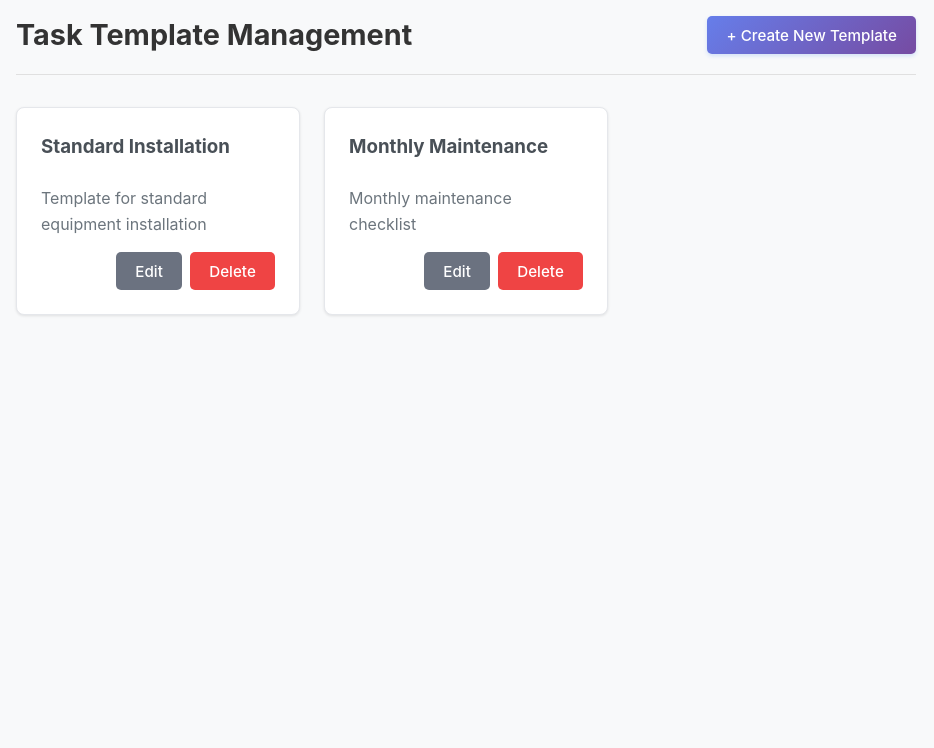
Test case: TaskAdministration Component - REQ-202.3 › Template Management › handles template editing
Expected: the heading "Standard Installation" is shown, [41,135,230,158]
Click the button "Edit" below "Standard Installation": (149, 271) [116,252,182,290]
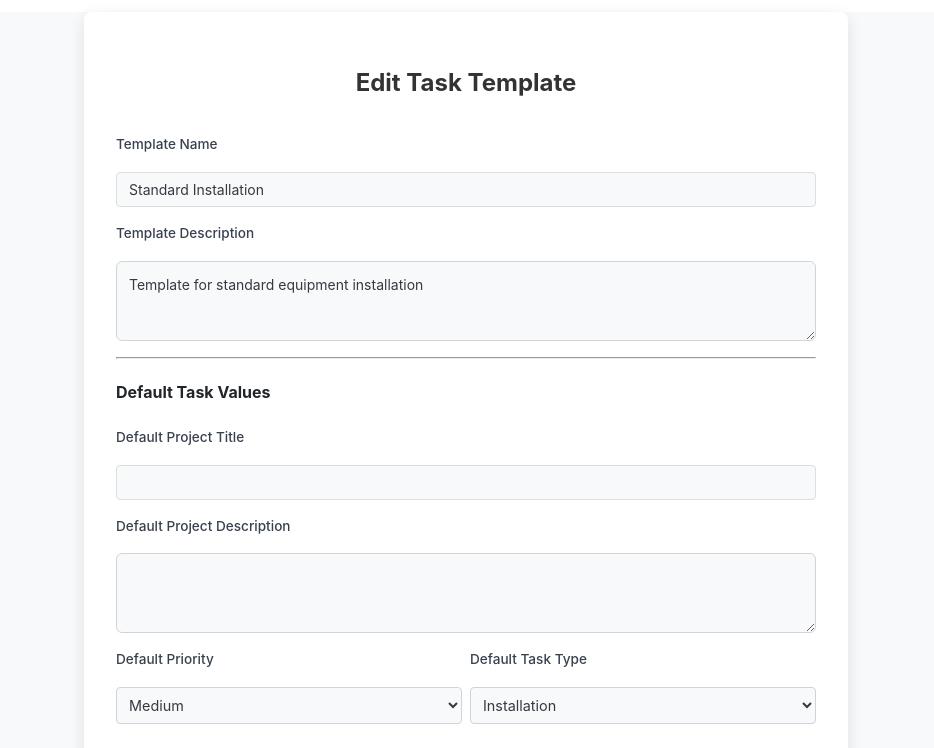
Expected: the heading "Edit Task Template" is shown, [356,68,576,97]
